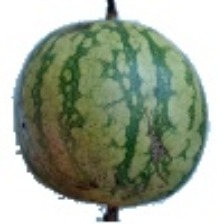watermelon: (43, 59, 206, 200)
